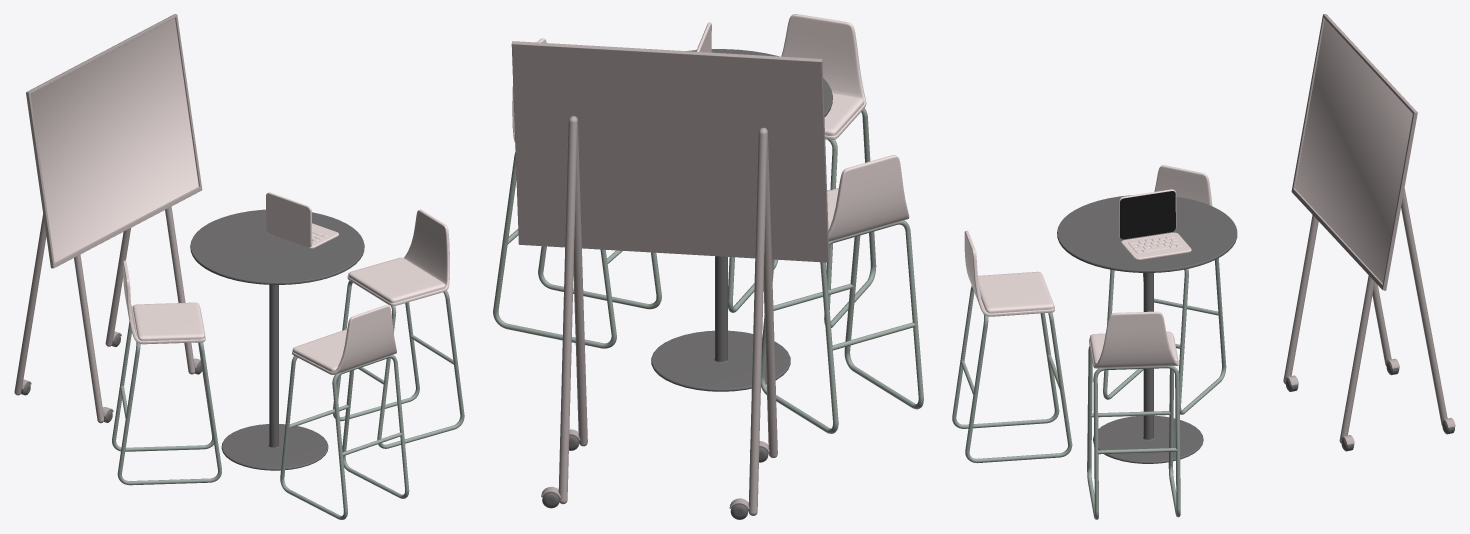
The model's file is icons8_high_chairs_blackboard_round_table.glb.
3 views of the same model, side by side, from view 1: azimuth 30°, elevation 25°; view 2: azimuth 150°, elevation 25°; view 3: azimuth 270°, elevation 25° (orthographic). The views are drawn at different scales.
Visible parts, largest first — view 1: icons8_high_chairs_blackboard_round_table; view 2: icons8_high_chairs_blackboard_round_table; view 3: icons8_high_chairs_blackboard_round_table.
Part boxes in pixels (<box>): icons8_high_chairs_blackboard_round_table: <box>14,14,464,519</box>; icons8_high_chairs_blackboard_round_table: <box>493,14,923,519</box>; icons8_high_chairs_blackboard_round_table: <box>952,14,1455,519</box>.
Bounding box in the file's own units: 3.38 × 3.29 × 4.34.
Materials: 1 (1 with a texture image).
